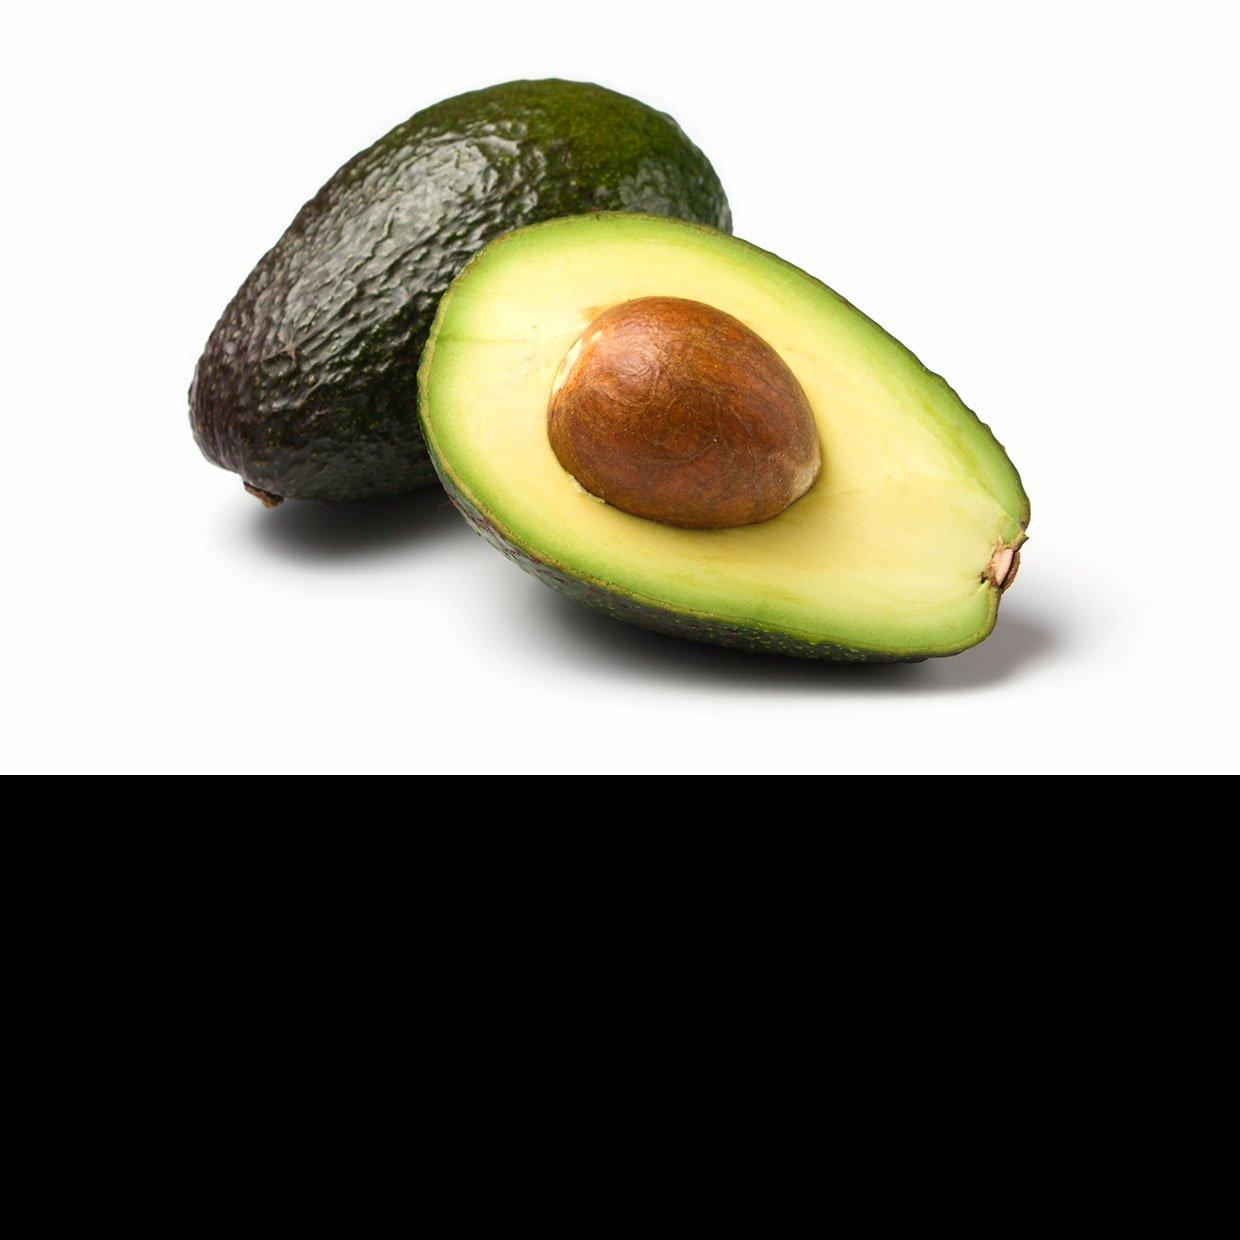almost: (188, 76, 735, 510)
